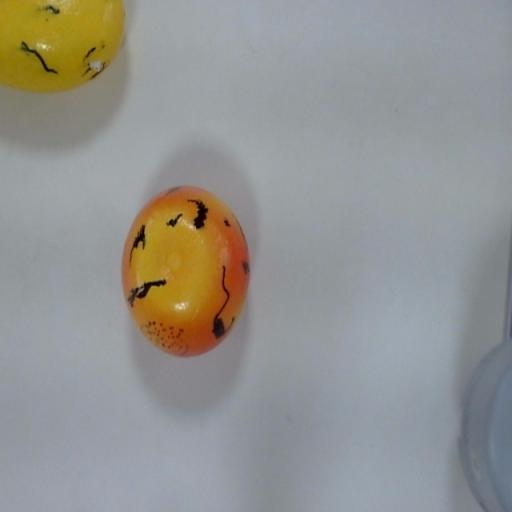Defective: (113, 168, 257, 363), (2, 0, 132, 100)
